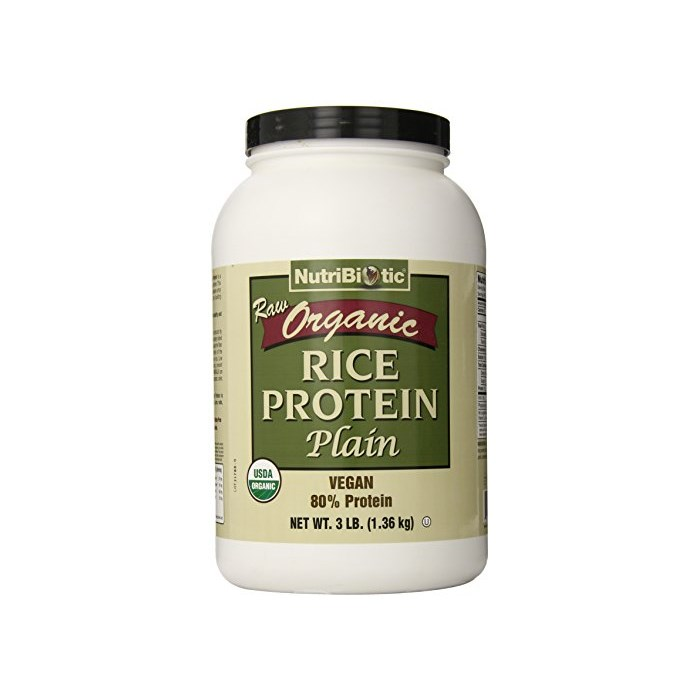glass of milk: (237, 171, 472, 253)
